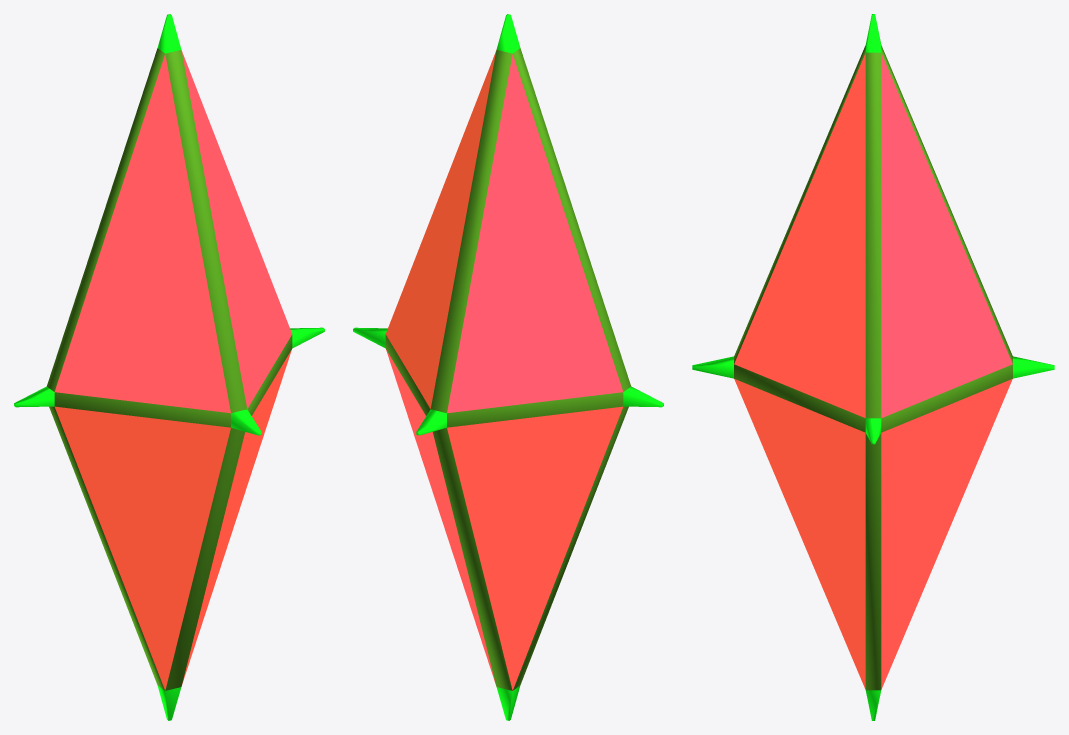
File: glowcrystal.glb
3 views of the same model, side by side, from view 1: azimuth 30°, elevation 25°; view 2: azimuth 150°, elevation 25°; view 3: azimuth 270°, elevation 25° (orthographic).
Parts seen in each view (by area): view 1: Object_2, Object_3, Object_4; view 2: Object_2, Object_3, Object_4; view 3: Object_2, Object_3, Object_4.
Boxes of the visible parts, bbox=[...] form: Object_2: bbox=[54, 51, 291, 690]; Object_3: bbox=[46, 48, 292, 690]; Object_4: bbox=[14, 14, 324, 720]; Object_2: bbox=[386, 51, 623, 690]; Object_3: bbox=[385, 48, 631, 690]; Object_4: bbox=[353, 14, 663, 720]; Object_2: bbox=[734, 53, 1012, 689]; Object_3: bbox=[734, 45, 1012, 690]; Object_4: bbox=[692, 14, 1054, 720].
Bounding box in the file's own units: 0.9773 × 2.13 × 0.9919.
